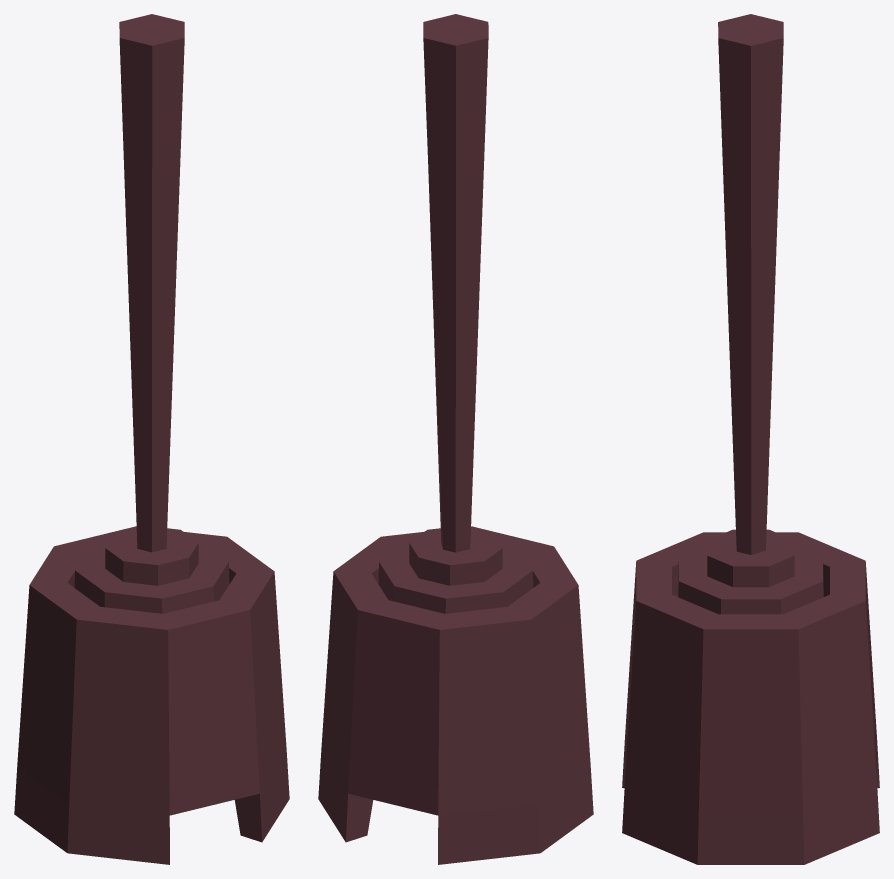
The model's file is toilet-brush-holder.fbx.
The picture shows the model from 3 angles, left to right: view 1: azimuth 30°, elevation 25°; view 2: azimuth 150°, elevation 25°; view 3: azimuth 270°, elevation 25°; orthographic projection.
Parts seen in each view (by area): view 1: toilet-brush-holder; view 2: toilet-brush-holder; view 3: toilet-brush-holder.
Part boxes in pixels (x1=…): toilet-brush-holder: x1=14, y1=14, x2=289, y2=864; toilet-brush-holder: x1=318, y1=14, x2=593, y2=864; toilet-brush-holder: x1=622, y1=14, x2=879, y2=864.
Size of the model in its own units: 0.1246 by 0.4161 by 0.1246.
